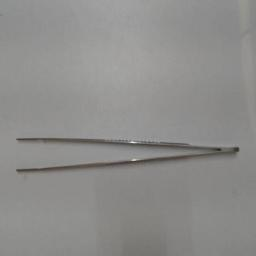DeBakey Dissector: (6, 130, 246, 194)
